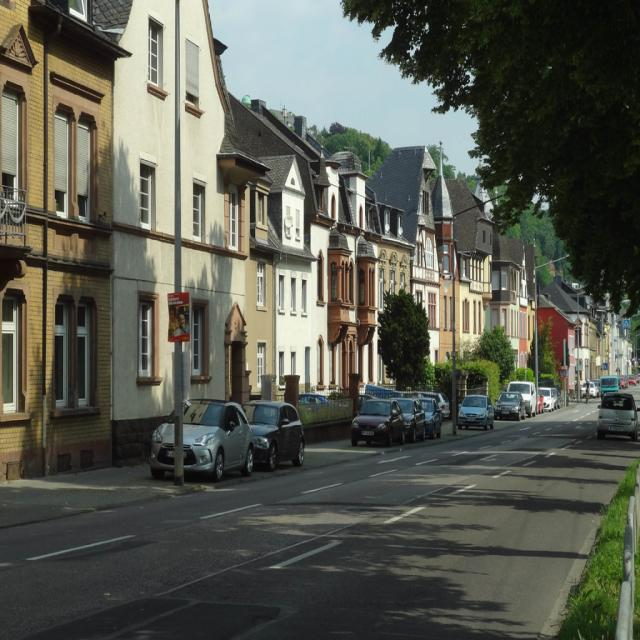car: (350, 396, 405, 447), (457, 391, 493, 429), (493, 391, 525, 421)
